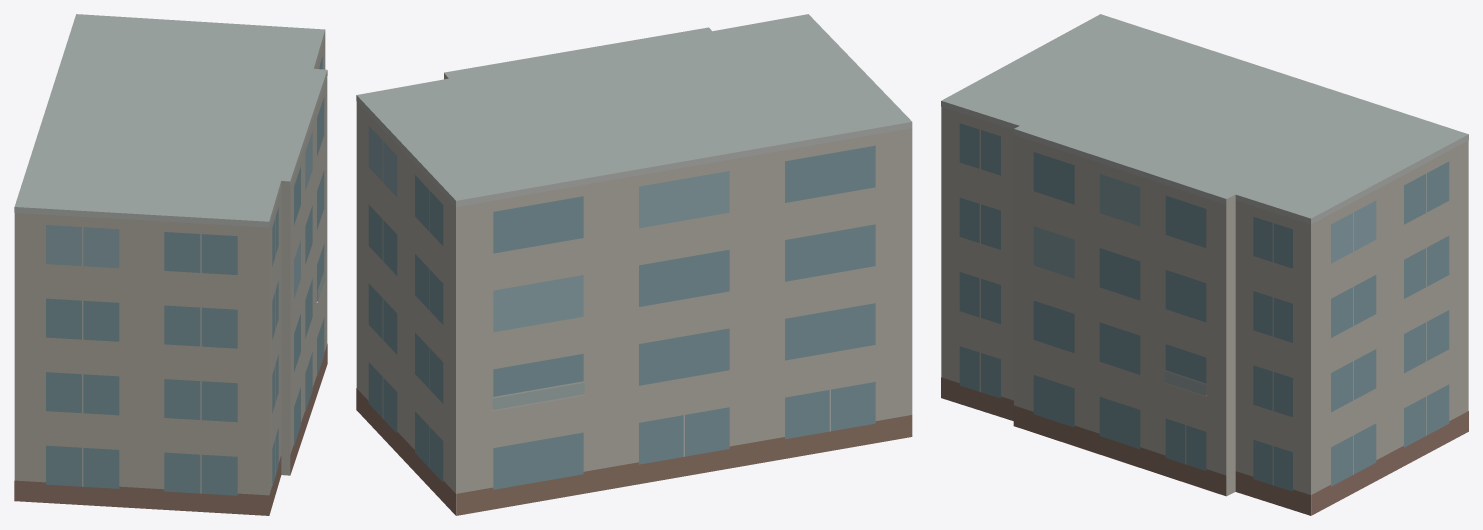
Rendered from survey-upis-32842899.glb.
3 views of the same model, side by side, from view 1: azimuth 30°, elevation 25°; view 2: azimuth 150°, elevation 25°; view 3: azimuth 270°, elevation 25° (orthographic). The views are drawn at different scales.
Visible parts, largest first — view 1: survey-upis-32842899.tmp; view 2: survey-upis-32842899.tmp; view 3: survey-upis-32842899.tmp.
Boxes of the visible parts, x1,y1,x2,y2 form: survey-upis-32842899.tmp: (14, 14, 327, 515); survey-upis-32842899.tmp: (356, 14, 912, 515); survey-upis-32842899.tmp: (941, 14, 1468, 515).
Bounding box in the file's own units: 18.02 × 12.2 × 19.63.
